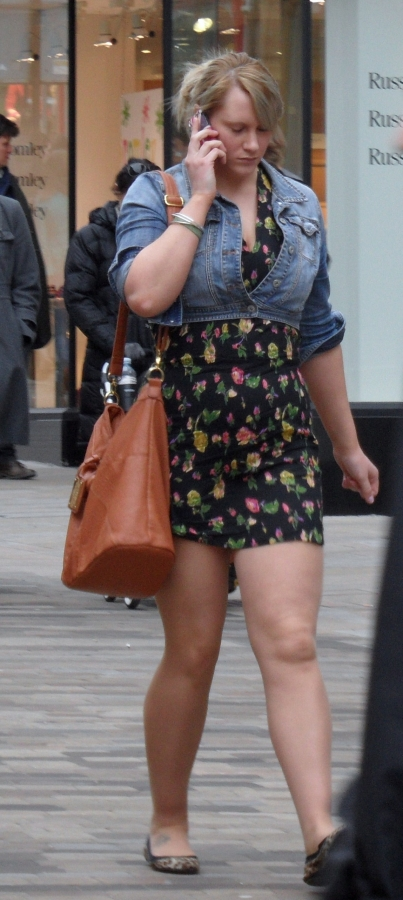phone: (178, 114, 226, 179)
talk: (169, 103, 285, 209)
